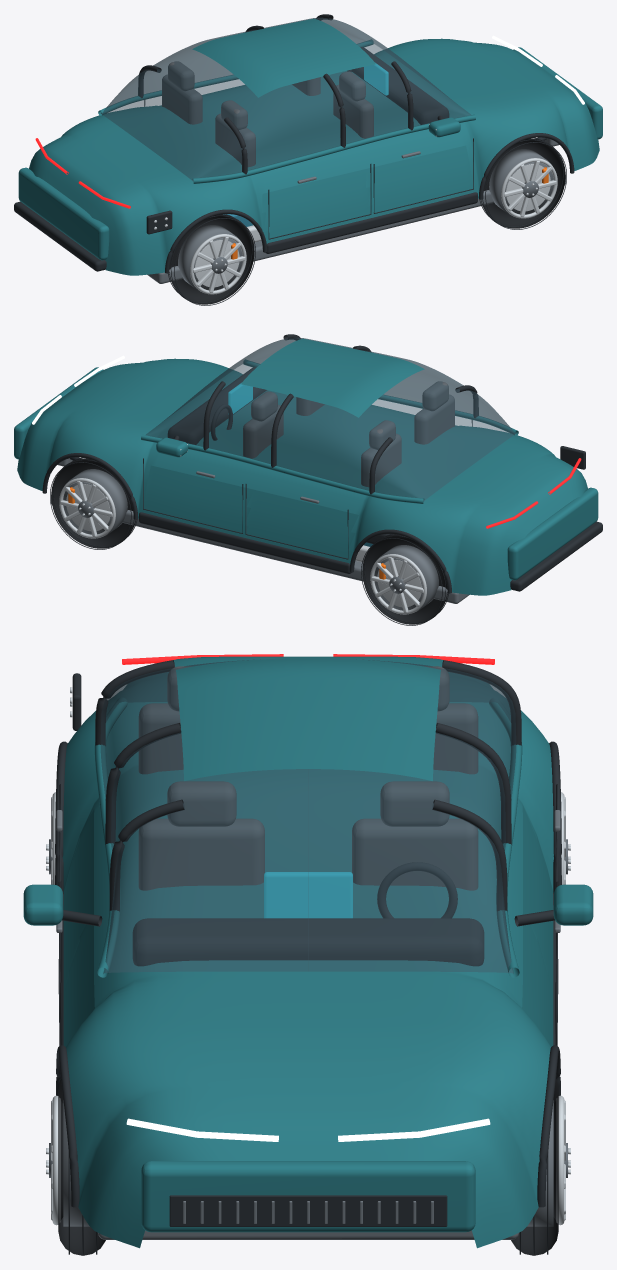
File: provisorio.glb
3 renders of one model, top to bottom at view 1: azimuth 30°, elevation 25°; view 2: azimuth 150°, elevation 25°; view 3: azimuth 270°, elevation 25°, orthographic. The views are drawn at different scales.
Visible parts, largest first — view 1: Carroceria_Casco_Curvo, Vidro_Canopy_Panoramico, Carroceria_Teto, Porta_Painel_Direita_Traseira, Porta_Painel_Direita_Dianteira, Carroceria_ParaChoque_-2.3, Carroceria_Soleira_-1, Roda_Traseira_Direita_Pneu, Roda_Dianteira_Direita_Pneu, Interior_Painel, Chassi_Plataforma, Carroceria_Moldura_Vidro_-1 (+22 smaller); view 2: Carroceria_Casco_Curvo, Vidro_Canopy_Panoramico, Carroceria_Teto, Porta_Painel_Esquerda_Traseira, Porta_Painel_Esquerda_Dianteira, Carroceria_ParaChoque_-2.3, Carroceria_Soleira_1, Roda_Traseira_Esquerda_Pneu, Roda_Dianteira_Esquerda_Pneu, Chassi_Plataforma, Interior_Painel, Carroceria_Moldura_Vidro_1 (+22 smaller); view 3: Carroceria_Casco_Curvo, Vidro_Canopy_Panoramico, Carroceria_Teto, Carroceria_ParaChoque_2.3, Interior_Painel, Carroceria_Entrada_Ar, Interior_Encosto_0.35_-1, Interior_Encosto_0.35_1, Interior_Tela, Porta_Painel_Esquerda_Traseira, Porta_Painel_Direita_Traseira, Interior_ApoioCabeca_0.35_-1 (+29 smaller).
Boxes of the visible parts, box(x1,y1,x2,y2) form: Carroceria_Casco_Curvo: box(29, 38, 599, 275); Vidro_Canopy_Panoramico: box(100, 17, 470, 181); Carroceria_Teto: box(192, 18, 375, 97); Porta_Painel_Direita_Traseira: box(261, 169, 372, 243); Porta_Painel_Direita_Dianteira: box(366, 145, 473, 218); Carroceria_ParaChoque_-2.3: box(18, 167, 109, 260); Carroceria_Soleira_-1: box(265, 192, 477, 253); Roda_Traseira_Direita_Pneu: box(169, 214, 254, 304); Roda_Dianteira_Direita_Pneu: box(481, 138, 565, 228); Interior_Painel: box(351, 47, 449, 124); Chassi_Plataforma: box(147, 175, 565, 283); Carroceria_Moldura_Vidro_-1: box(192, 114, 475, 183); Carroceria_Casco_Curvo: box(17, 358, 587, 595); Vidro_Canopy_Panoramico: box(146, 337, 516, 501); Carroceria_Teto: box(241, 338, 424, 417); Porta_Painel_Esquerda_Traseira: box(243, 490, 358, 562); Porta_Painel_Esquerda_Dianteira: box(143, 465, 254, 537); Carroceria_ParaChoque_-2.3: box(507, 487, 598, 580); Carroceria_Soleira_1: box(139, 512, 351, 573); Roda_Traseira_Esquerda_Pneu: box(362, 534, 447, 624); Roda_Dianteira_Esquerda_Pneu: box(51, 458, 135, 548); Chassi_Plataforma: box(51, 495, 469, 603); Interior_Painel: box(167, 367, 266, 444); Carroceria_Moldura_Vidro_1: box(141, 434, 424, 503); Carroceria_Casco_Curvo: box(62, 656, 553, 1248); Vidro_Canopy_Panoramico: box(100, 659, 516, 973); Carroceria_Teto: box(176, 658, 440, 781); Carroceria_ParaChoque_2.3: box(141, 1161, 475, 1232); Interior_Painel: box(132, 918, 484, 966); Carroceria_Entrada_Ar: box(169, 1195, 447, 1226); Interior_Encosto_0.35_-1: box(138, 818, 264, 890); Interior_Encosto_0.35_1: box(352, 818, 478, 890); Interior_Tela: box(264, 872, 352, 918); Porta_Painel_Esquerda_Traseira: box(522, 805, 553, 994); Porta_Painel_Direita_Traseira: box(63, 809, 94, 991); Interior_ApoioCabeca_0.35_-1: box(167, 781, 236, 826).
Size of the model in its own units: 4.76 by 1.62 by 2.3.
